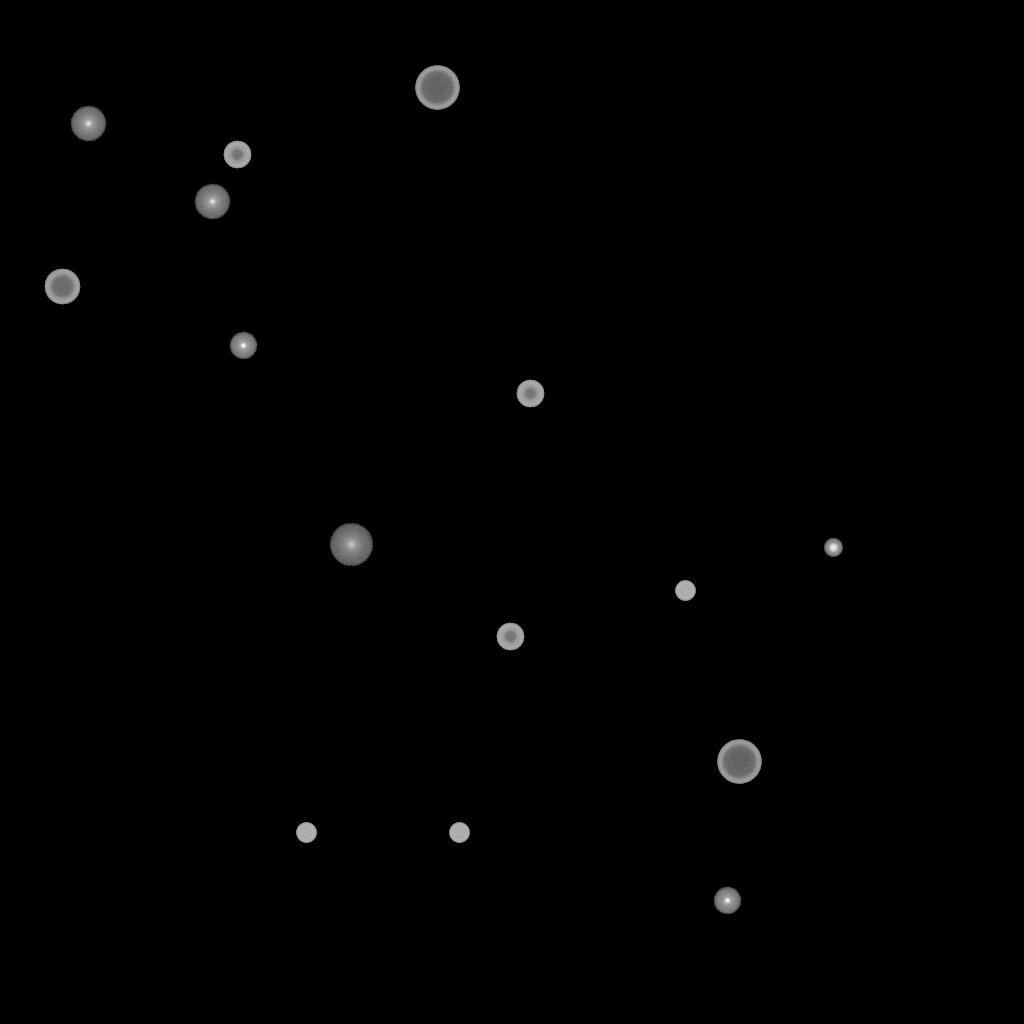depth:-10: (229, 332, 257, 360), (713, 887, 741, 915)
depth:-20: (824, 539, 842, 557)
depth:-40: (296, 823, 316, 843), (675, 581, 695, 601), (449, 823, 469, 843)
depth:-50: (223, 141, 251, 169), (516, 380, 544, 408), (496, 623, 524, 651)
depth:-60: (44, 269, 80, 305)
depth:-70: (415, 66, 459, 110), (717, 740, 761, 784)
depth:0: (70, 106, 106, 142), (194, 184, 230, 220)
depth:10: (329, 523, 373, 567)
